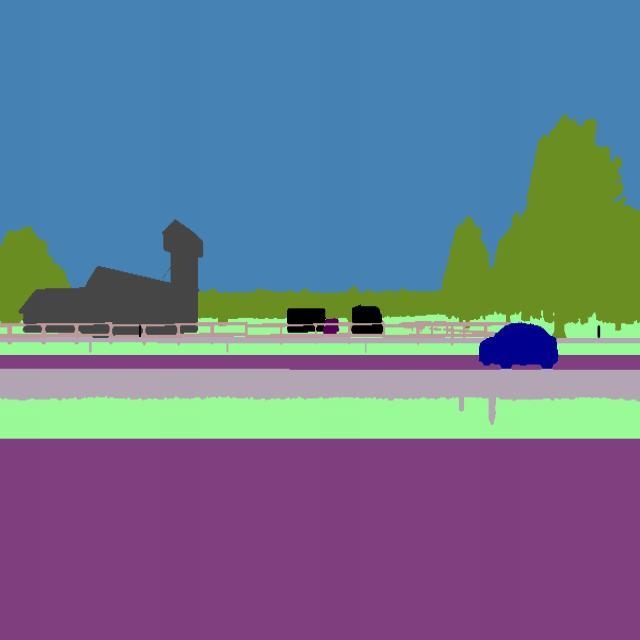safe: (474, 320, 560, 376)
